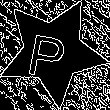P_N: (30, 23, 75, 80)
